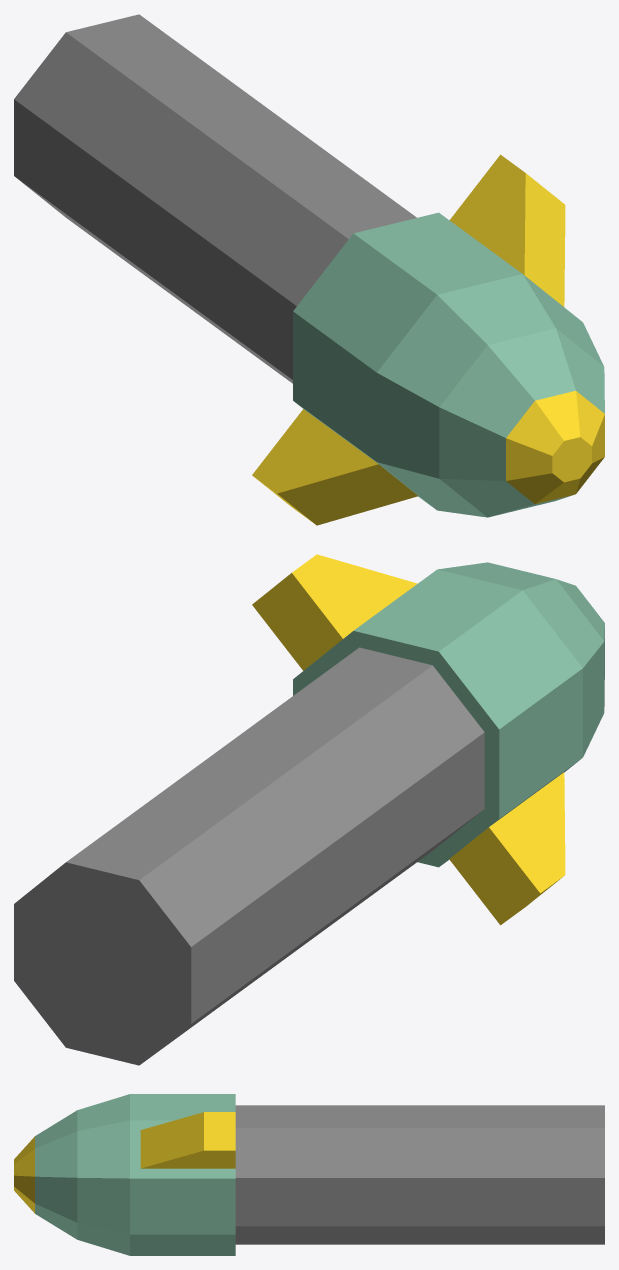
The model's file is kenney-weapon-ammo-rocket-modern.glb.
3 renders of one model, top to bottom at view 1: azimuth 30°, elevation 25°; view 2: azimuth 150°, elevation 25°; view 3: azimuth 270°, elevation 25°, orthographic. The views are drawn at different scales.
Parts seen in each view (by area): view 1: ammo_rocketModern; view 2: ammo_rocketModern; view 3: ammo_rocketModern.
Part boxes in pixels (x1,y1,x2,y2): ammo_rocketModern: (14, 14, 604, 525); ammo_rocketModern: (14, 554, 604, 1065); ammo_rocketModern: (14, 1094, 604, 1255).
Bounding box in the file's own units: 0.076 × 0.076 × 0.2144.
